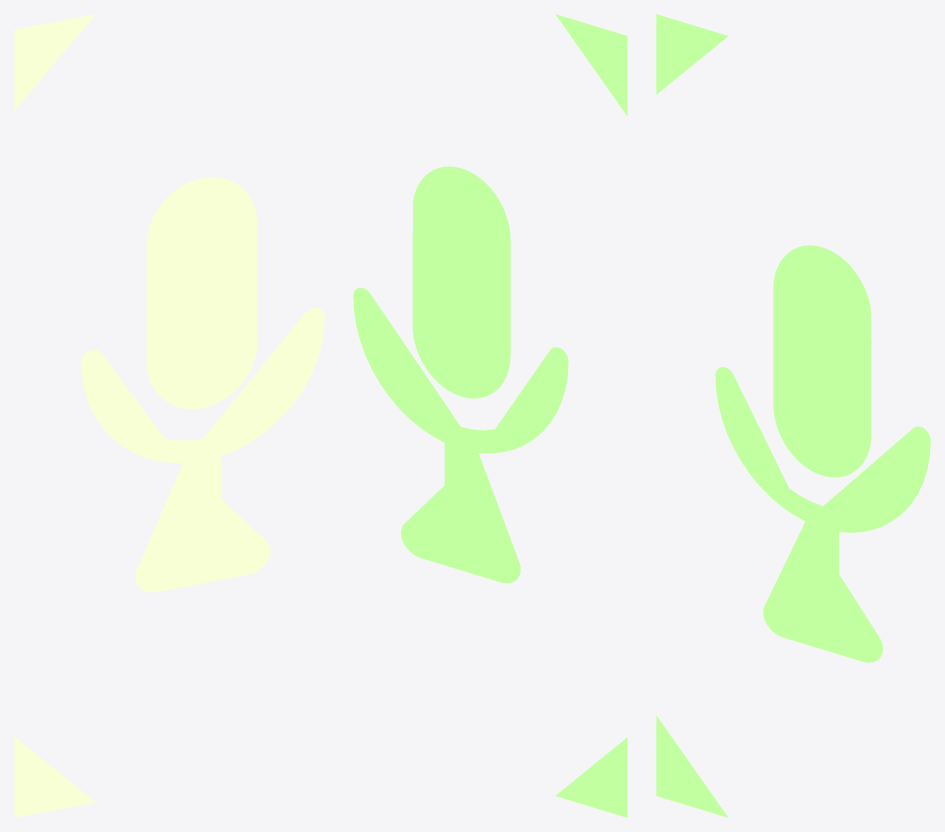
Rendered from Switch_MicTest.fbx.
The picture shows the model from 3 angles, left to right: view 1: azimuth 30°, elevation 25°; view 2: azimuth 150°, elevation 25°; view 3: azimuth 330°, elevation 25°; orthographic projection.
Parts seen in each view (by area): view 1: Switch_MicTest_On; view 2: Switch_MicTest_On; view 3: Switch_MicTest_On.
Part boxes in pixels (x1,y1,x2,y2): Switch_MicTest_On: (14, 14, 324, 817); Switch_MicTest_On: (353, 14, 627, 817); Switch_MicTest_On: (656, 14, 930, 817).
Bounding box in the file's own units: 0.0644 × 0.1653 × 0.00644.
